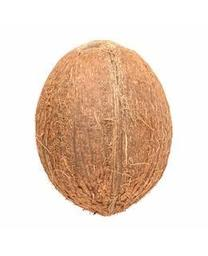coconut: (30, 37, 179, 220)
